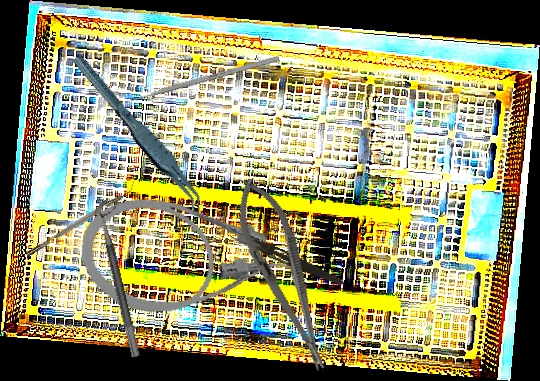Cannula: (70, 186, 303, 340)
Chopper: (21, 180, 140, 258)
Dressing Forceps: (228, 229, 347, 288)
Fixation Ring: (94, 196, 154, 359)
Needle Holder: (223, 171, 344, 379)
Pusher: (116, 54, 280, 108)
Tissue Forceps: (70, 41, 208, 226)
